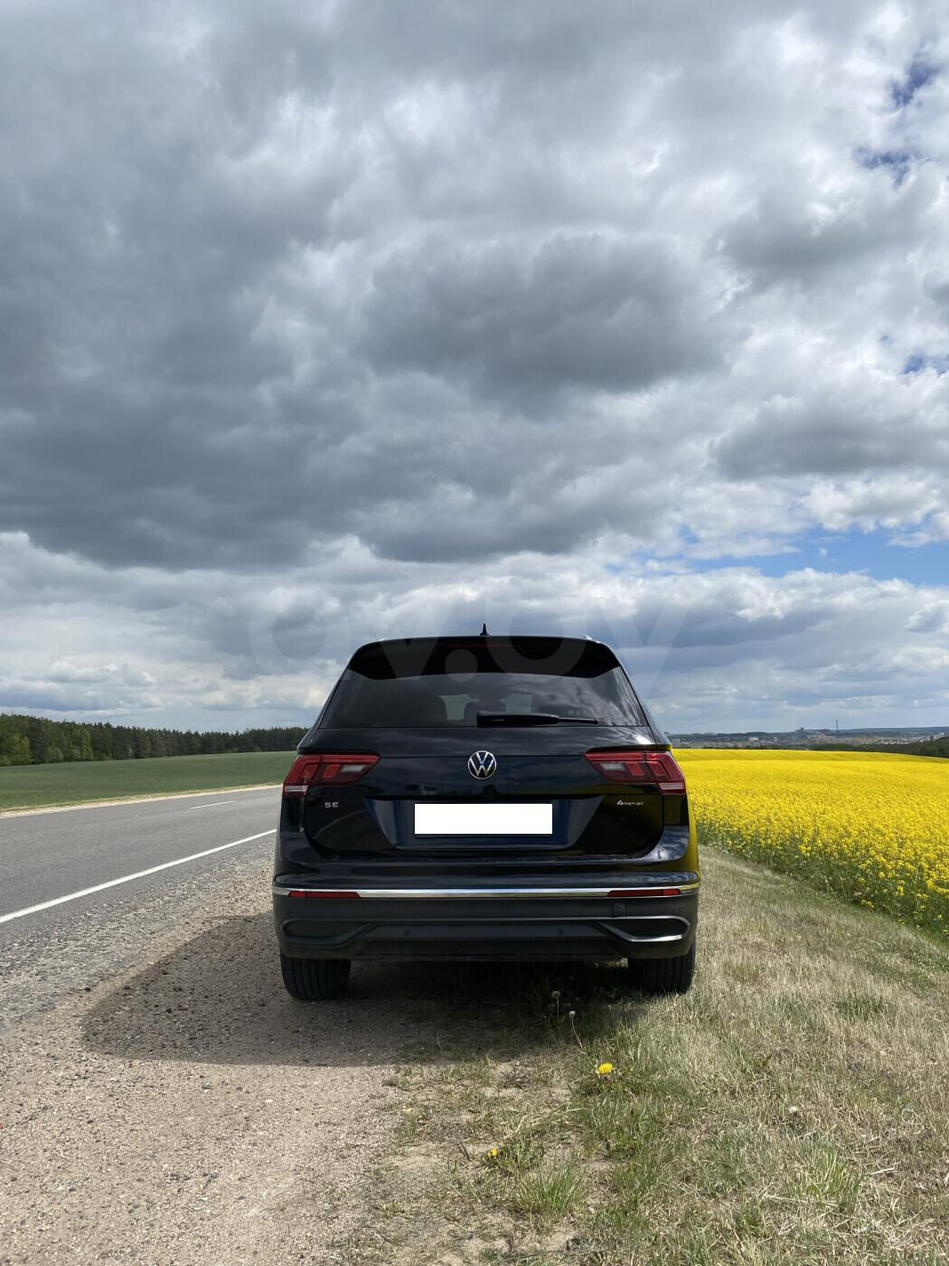Tiguan_2020-2024: (268, 628, 703, 1006)
